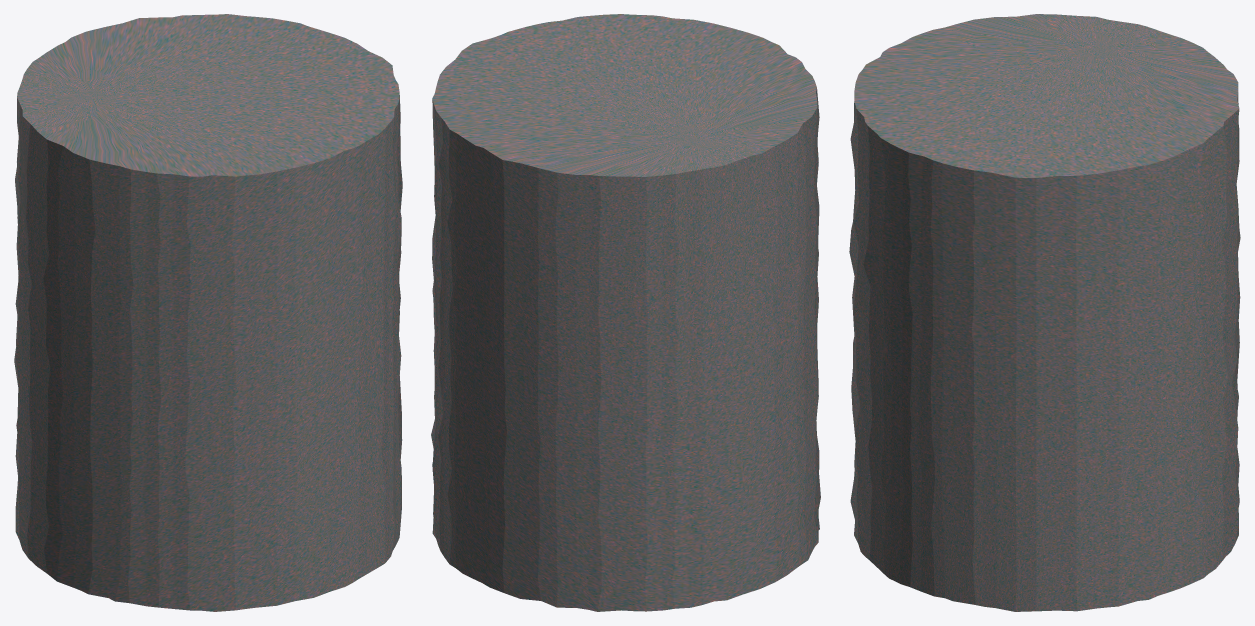
File: barrel_13.dae
The picture shows the model from 3 angles, left to right: view 1: azimuth 30°, elevation 25°; view 2: azimuth 150°, elevation 25°; view 3: azimuth 270°, elevation 25°; orthographic projection.
Parts seen in each view (by area): view 1: Cylinder; view 2: Cylinder; view 3: Cylinder.
Part boxes in pixels (x1,y1,x2,y2): Cylinder: [14, 14, 402, 611]; Cylinder: [431, 14, 820, 611]; Cylinder: [849, 14, 1240, 611].
Bounding box in the file's own units: 0.8204 × 0.8148 × 1.
Materials: 1 (1 with a texture image).
